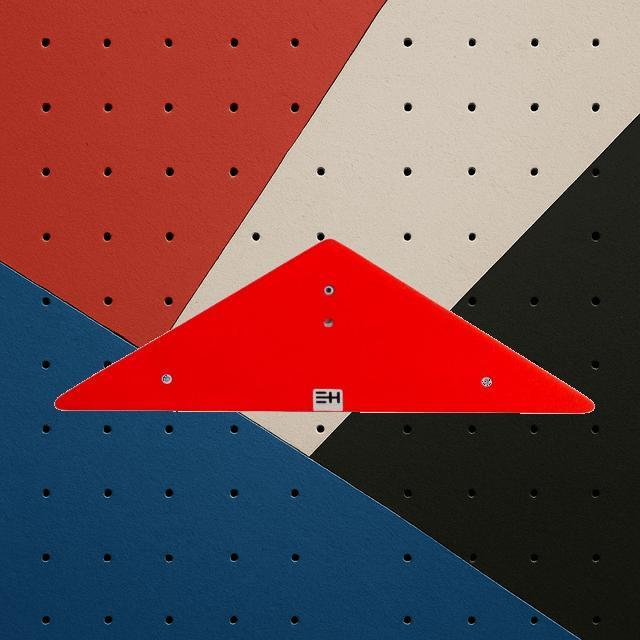Volume: (53, 236, 594, 414)
